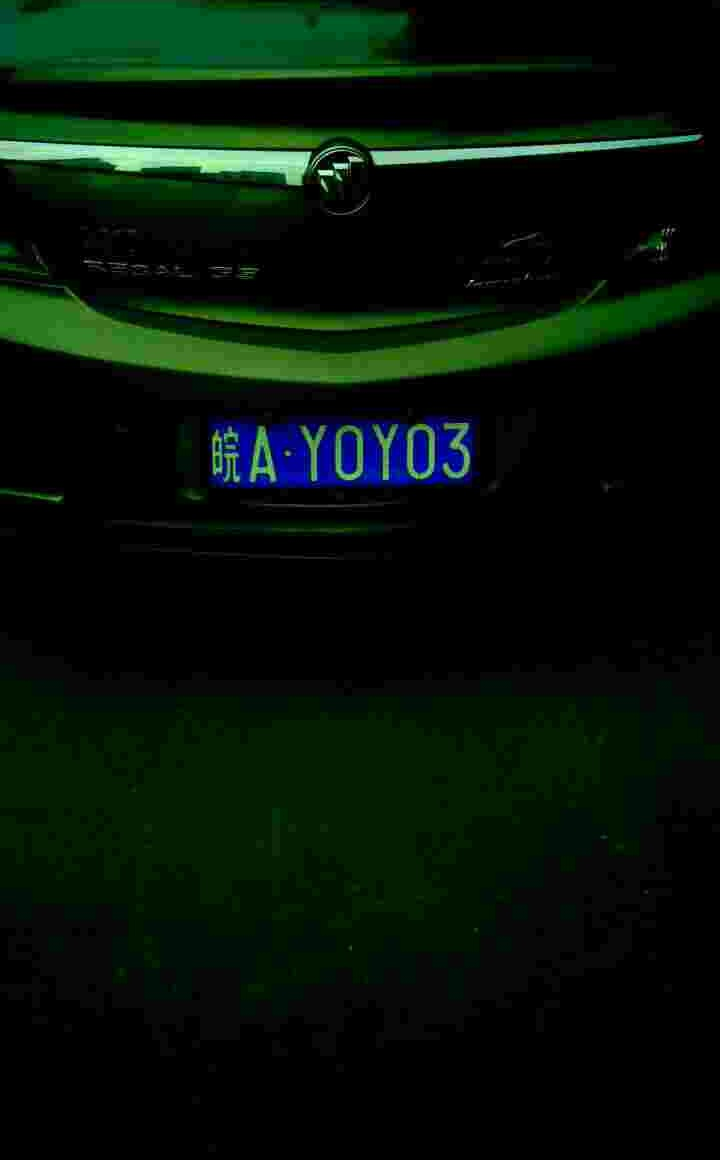license_plate: (193, 408, 471, 503)
